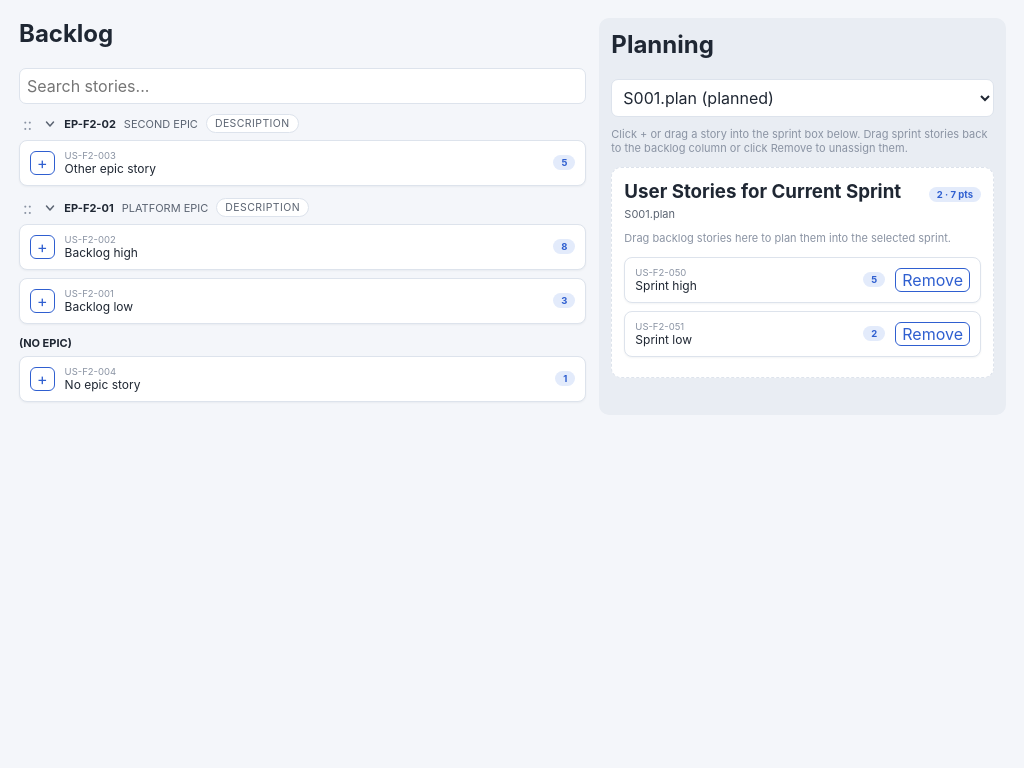
BacklogView › defaults to collapsed descriptions and visible user stories, and keeps the two controls independent
Check: the text "US-F2-001" is shown, box x1=65 y1=288 x2=114 y2=299
Check: the text "Forretningskontekst" is not shown
Click the button with aria-label "show epic description EP-F2-01": (263, 208) x1=216 y1=198 x2=309 y2=217
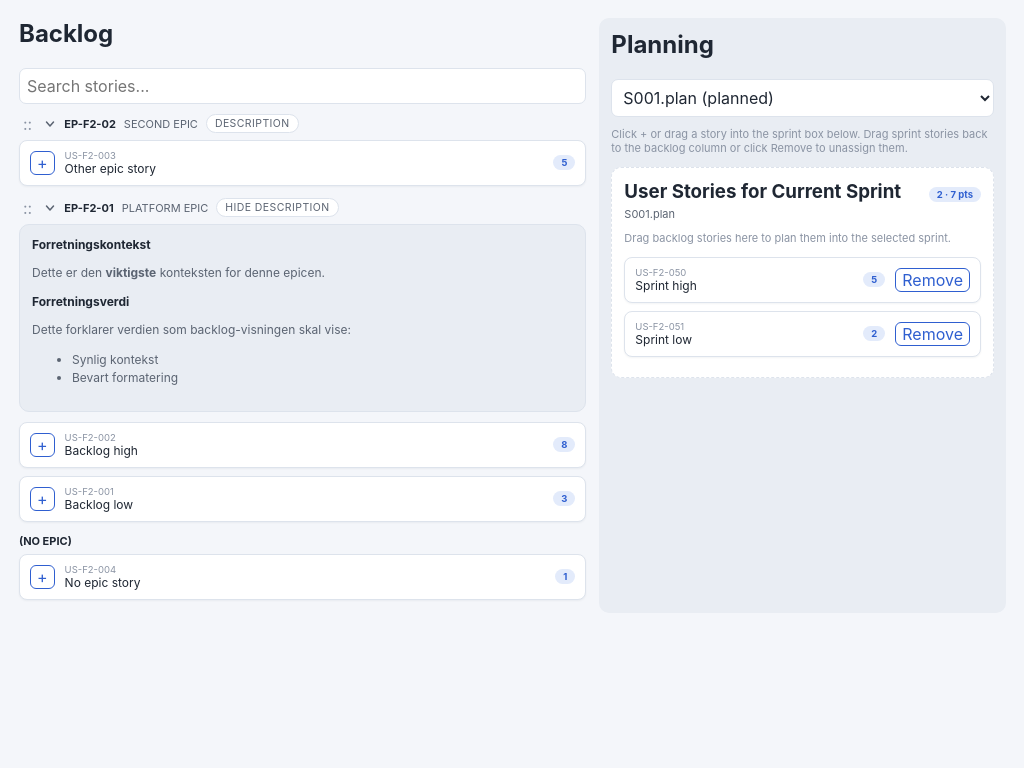
Check: the text "Forretningskontekst" is shown, box x1=32 y1=237 x2=151 y2=252
Check: the text "viktigste" is shown, box x1=106 y1=265 x2=156 y2=280
Check: the text "Forretningsverdi" is shown, box x1=32 y1=294 x2=129 y2=309
Click the button with aria-label "hide epic description EP-F2-01": (277, 208) x1=216 y1=198 x2=339 y2=217
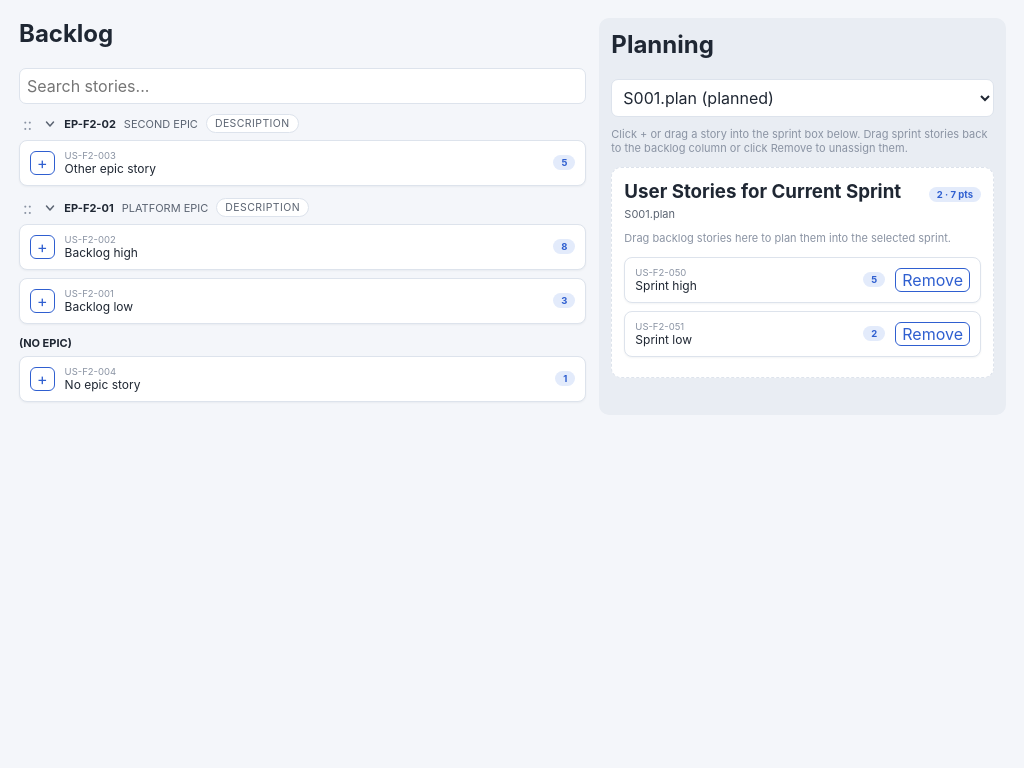
Check: the text "Forretningskontekst" is gone
Click the button with aria-label "collapse user stories for EP-F2-01": (126, 208) x1=44 y1=201 x2=208 y2=215
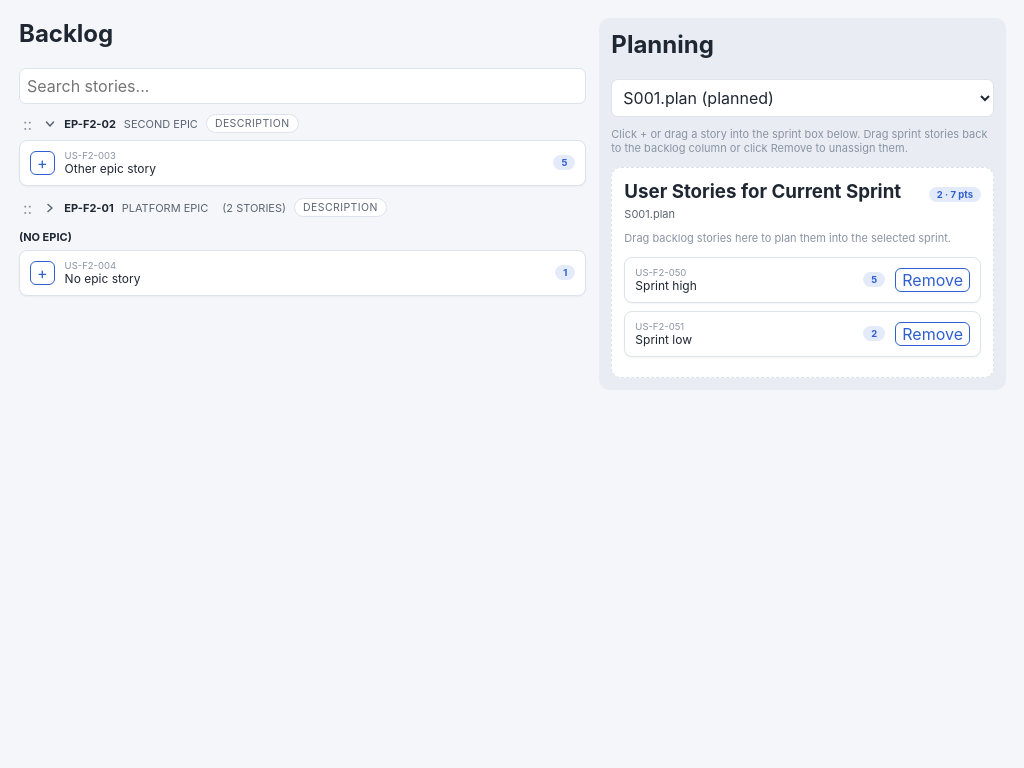
Check: the button "US-F2-001" is gone
Check: the text "(2 stories)" is shown, box x1=222 y1=201 x2=286 y2=215
Click the button with aria-label "show epic description EP-F2-01": (340, 208) x1=294 y1=198 x2=387 y2=217
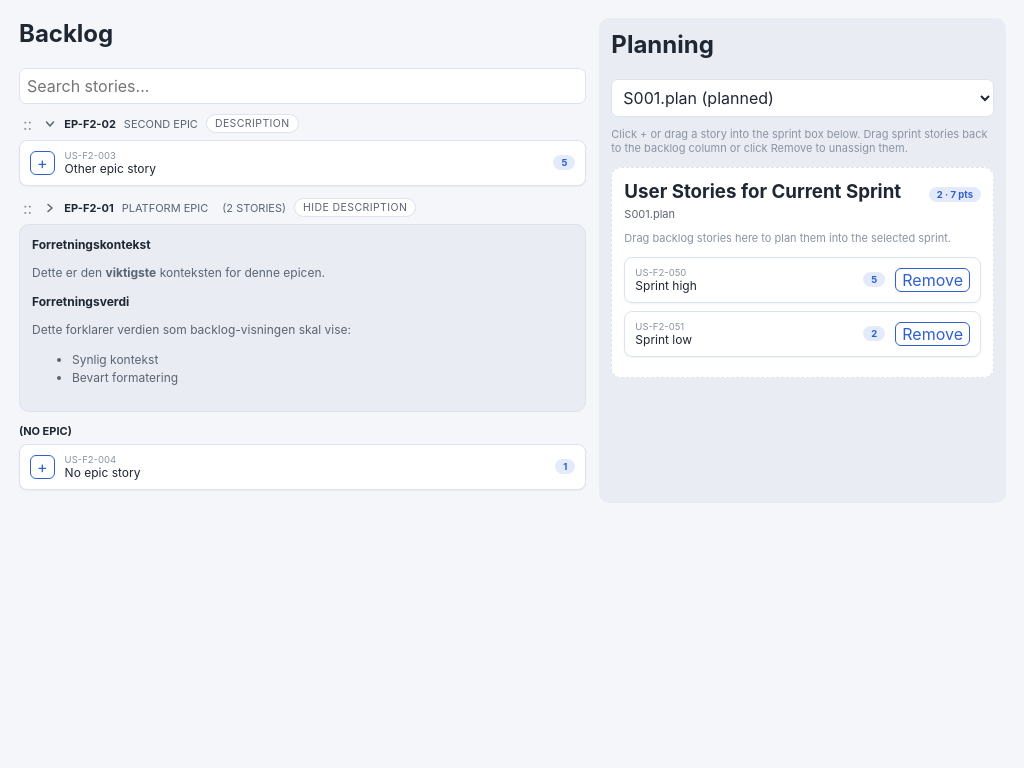
Check: the button "US-F2-001" is not shown
Check: the text "Forretningskontekst" is shown, box x1=32 y1=237 x2=151 y2=252
Click the button with aria-label "expand user stories for EP-F2-01": (165, 208) x1=44 y1=201 x2=286 y2=215
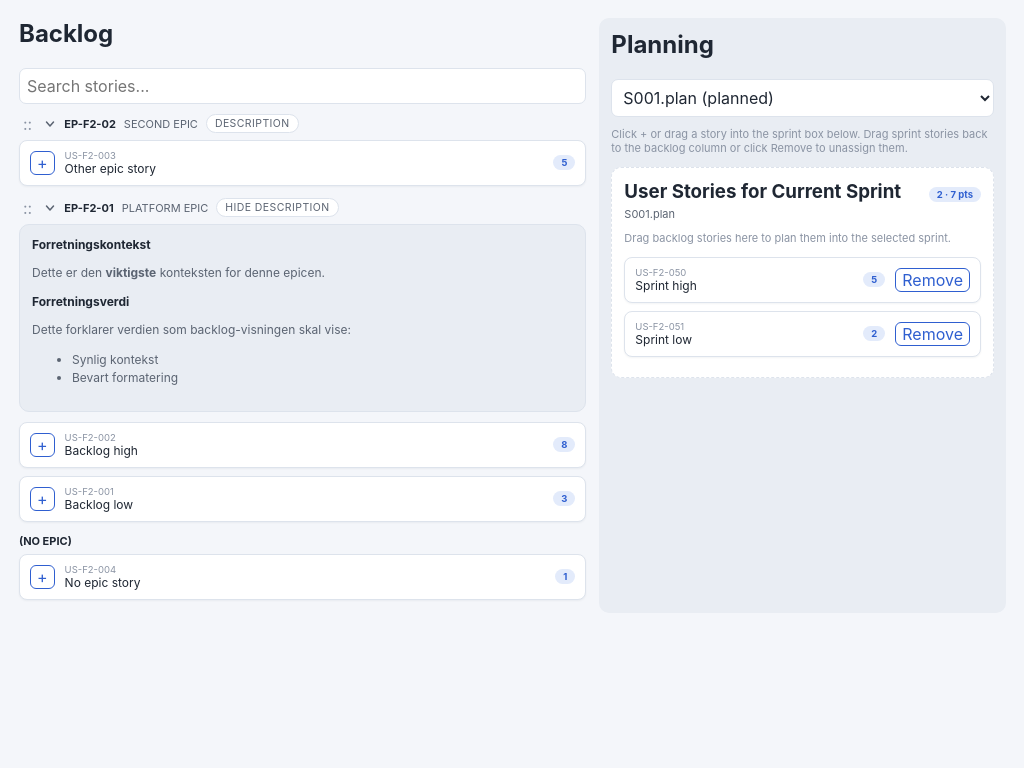
Check: the text "Forretningskontekst" is shown, box x1=32 y1=237 x2=151 y2=252
Check: the text "US-F2-001" is shown, box x1=65 y1=486 x2=114 y2=497
